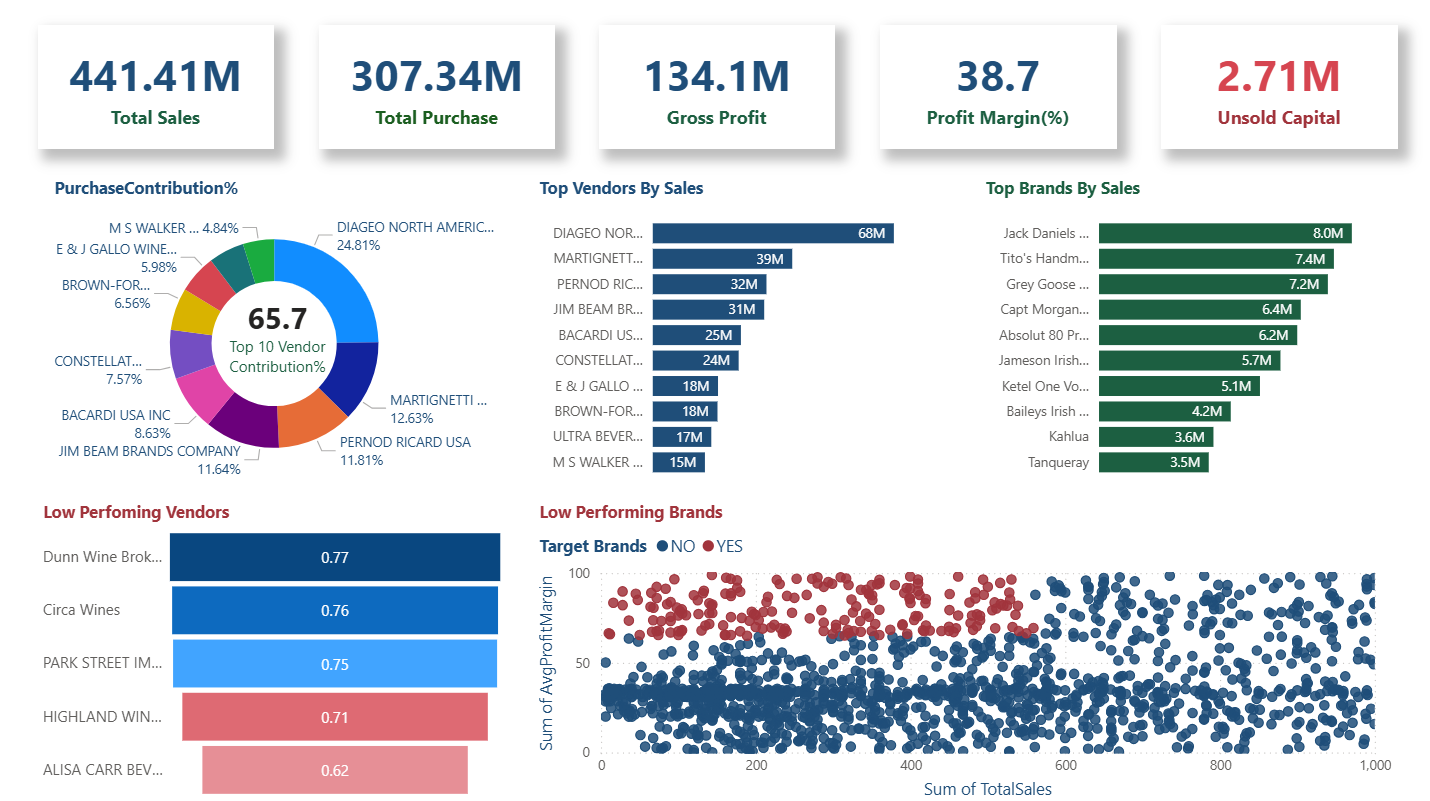

This screenshot's page, from the dashboard's own definition file:
{"tool":"powerbi","page":{"name":"Page 1","canvas":[1280,720],"ordinal":0},"visuals":[{"type":"card","fields":{"Values":["Measure Table.Total Sales"]},"box":[37.8,26.7,210,110],"z":0},{"type":"card","fields":{"Values":["Measure Table.Total Purchase"]},"box":[287.5,26.7,210,110],"z":1000},{"type":"card","fields":{"Values":["Measure Table.Gross Profit"]},"box":[537.2,26.7,210,110],"z":2000},{"type":"card","fields":{"Values":["Measure Table.Profit Margin(%)"]},"box":[786.9,26.7,210,110],"z":3000},{"type":"card","fields":{"Values":["Measure Table.Unsold Capital"]},"box":[1036.7,26.7,210,110],"z":4000},{"type":"donutChart","title":"PurchaseContribution% ","fields":{"Y":["PurchaseContribution.PurchaseContribution%"],"Category":["PurchaseContribution.VendorName"]},"box":[47.8,161.1,401.1,277.8],"z":5000},{"type":"clusteredBarChart","title":"Top Vendors By Sales","fields":{"Category":["vendor_sales_summary.VendorName"],"Y":["Measure Table.Total Sales"]},"box":[478.9,161.1,371.1,277.8],"z":6000},{"type":"clusteredBarChart","title":"Top Brands By Sales","fields":{"Y":["Measure Table.Total Sales"],"Category":["vendor_sales_summary.Description"]},"box":[875.6,161.1,371.1,277.8],"z":7000},{"type":"funnel","title":"Low Perfoming Vendors","fields":{"Category":["LowTurnoverVendor.VendorName"],"Y":["LowTurnoverVendor.AvgStcokTurnOver"]},"box":[37.8,448.9,421.6,271.1],"z":8000},{"type":"scatterChart","title":"Low Performing Brands","fields":{"Category":["BrandPerfomance.Description"],"X":["BrandPerfomance.TotalSales"],"Y":["BrandPerfomance.AvgProfitMargin"],"Series":["BrandPerfomance.TargetBrand"]},"box":[478.9,448.9,767.8,271.1],"z":9000},{"type":"textbox","box":[192.2,263.3,117.8,96.7],"z":10000}]}

Visuals, with their boxes in screenshot pixels (x1, y1, x2, y2), scaled from the page's 1280x720 canvas onto the 1430x801 screenshot:
card - Measure Table.Total Sales: (42,30,277,152)
card - Measure Table.Total Purchase: (321,30,556,152)
card - Measure Table.Gross Profit: (600,30,835,152)
card - Measure Table.Profit Margin(%): (879,30,1114,152)
card - Measure Table.Unsold Capital: (1158,30,1393,152)
"PurchaseContribution% " donutChart: (53,179,502,488)
"Top Vendors By Sales" clusteredBarChart: (535,179,950,488)
"Top Brands By Sales" clusteredBarChart: (978,179,1393,488)
"Low Perfoming Vendors" funnel: (42,499,513,800)
"Low Performing Brands" scatterChart: (535,499,1393,800)
textbox: (215,293,346,400)
